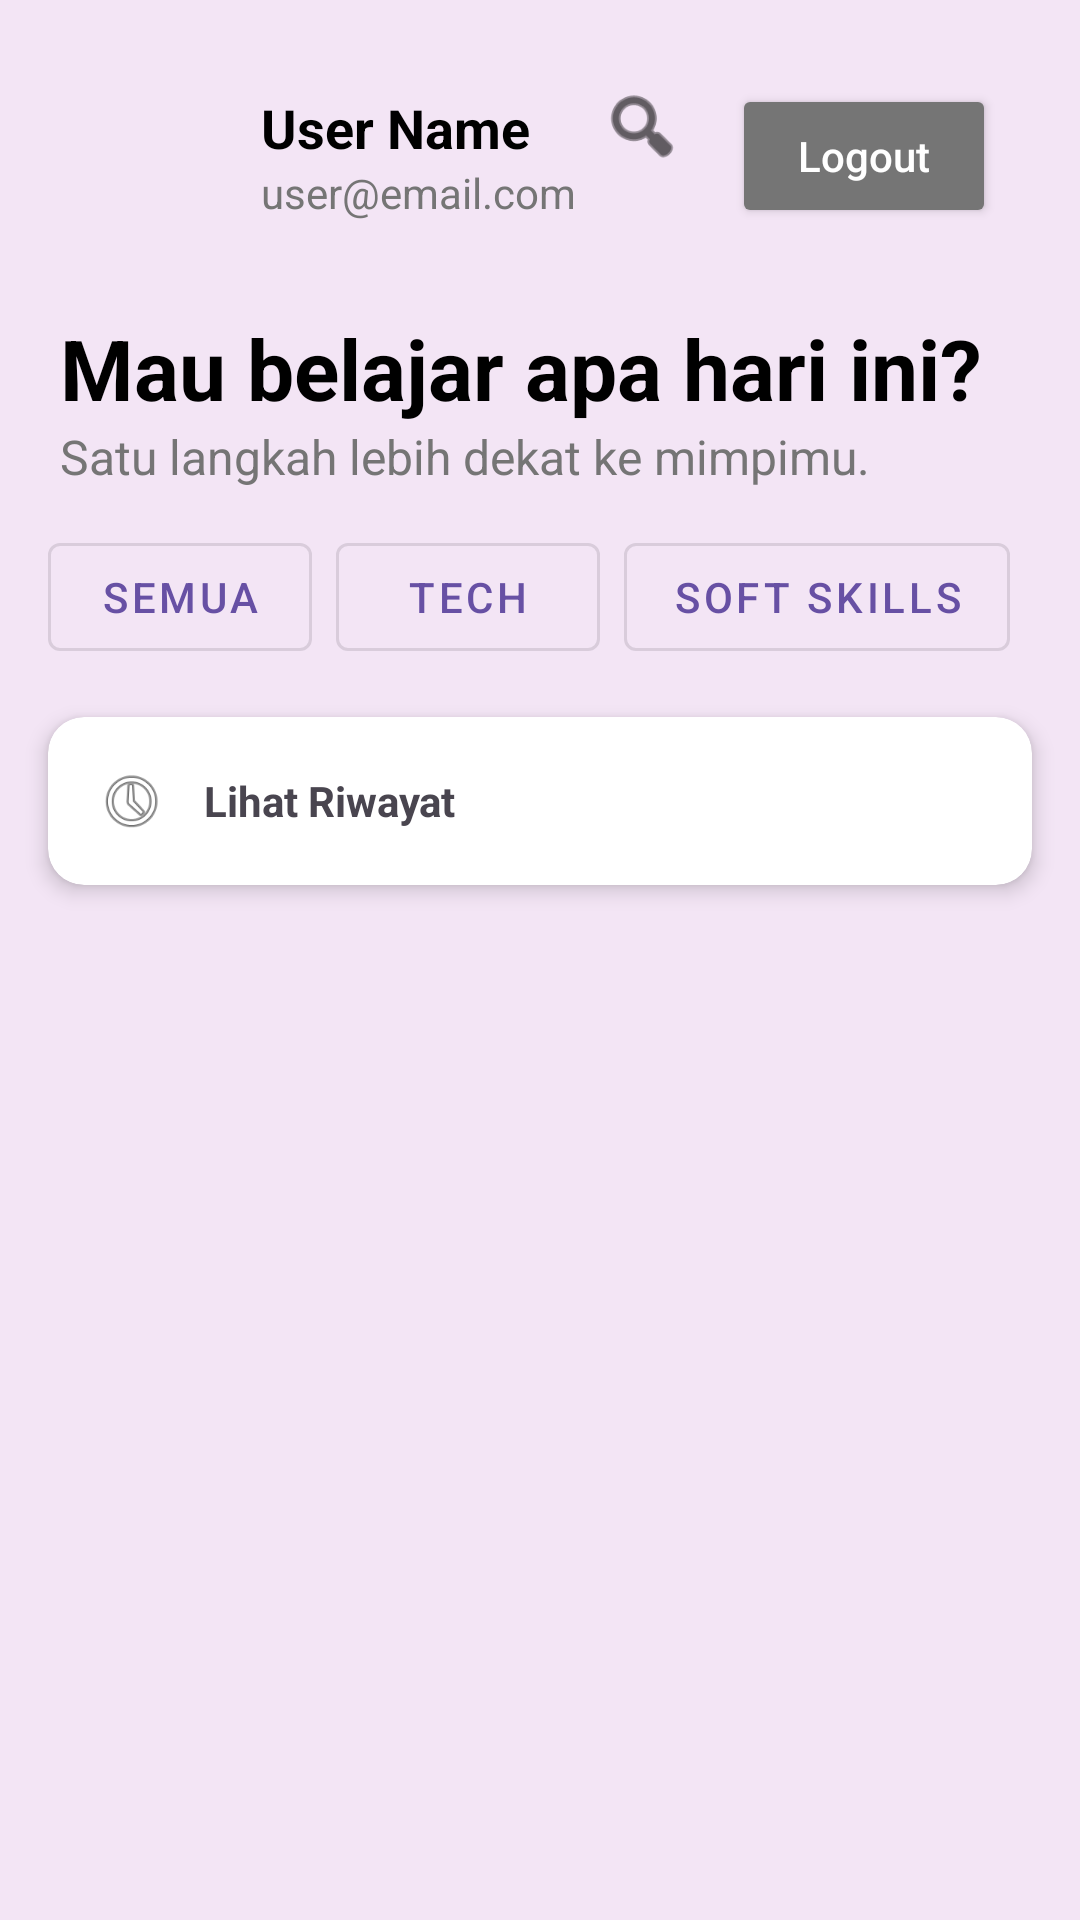

Named icons in this screenshot (1080x1920) and their bounding boxes, (x1, y1, x2, y2):
recent history: (105, 775, 158, 827)
search: (611, 95, 673, 158)
